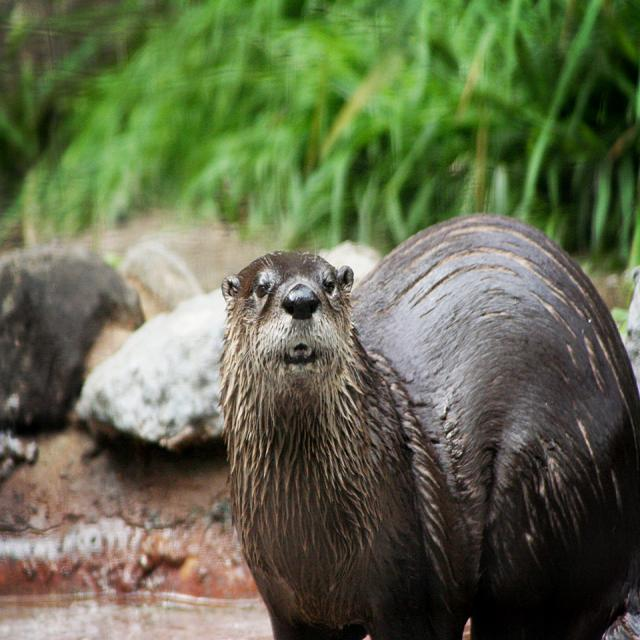otter: (220, 209, 640, 640)
